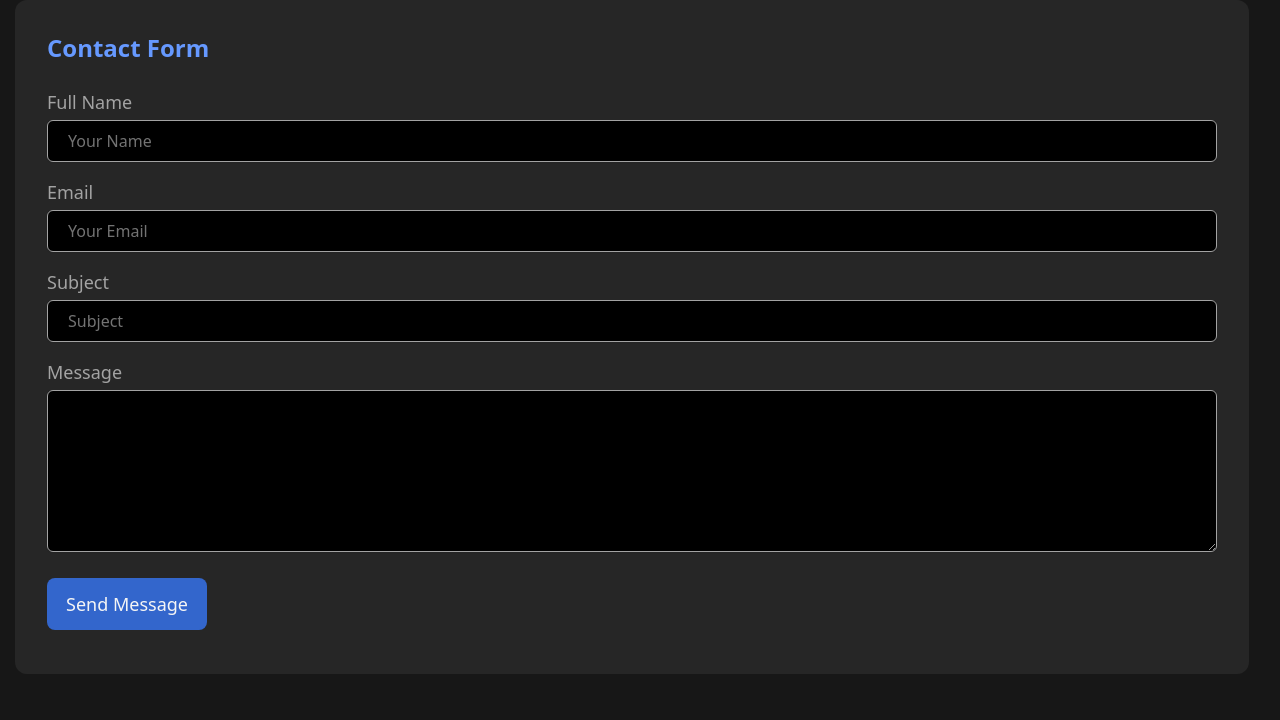
Scenario: ContactForm › re-enables the button after successful submission
Type "Alice" into the field labelled "Full Name" at [632, 141], box [47,120,1217,162]
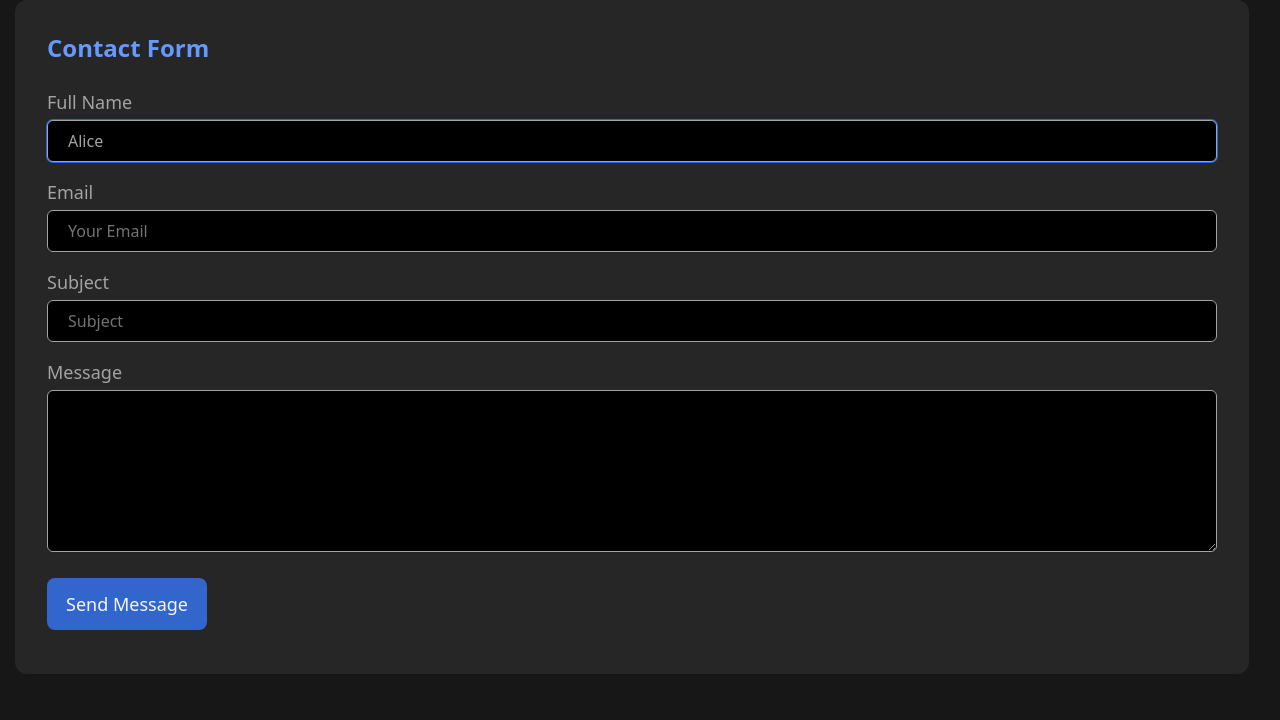
Type "alice@example.com" into the field labelled "Email" at [632, 231], box [47,210,1217,252]
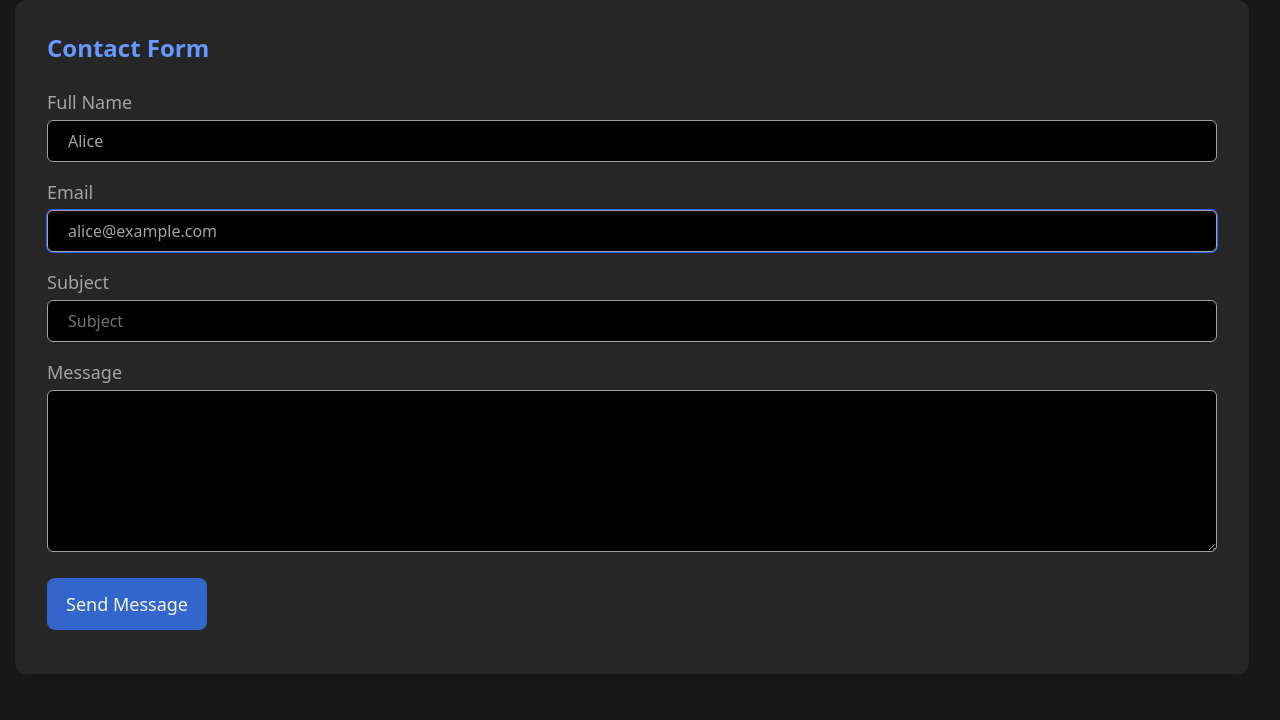
Type "Hi" into the field labelled "Subject" at [632, 321], box [47,300,1217,342]
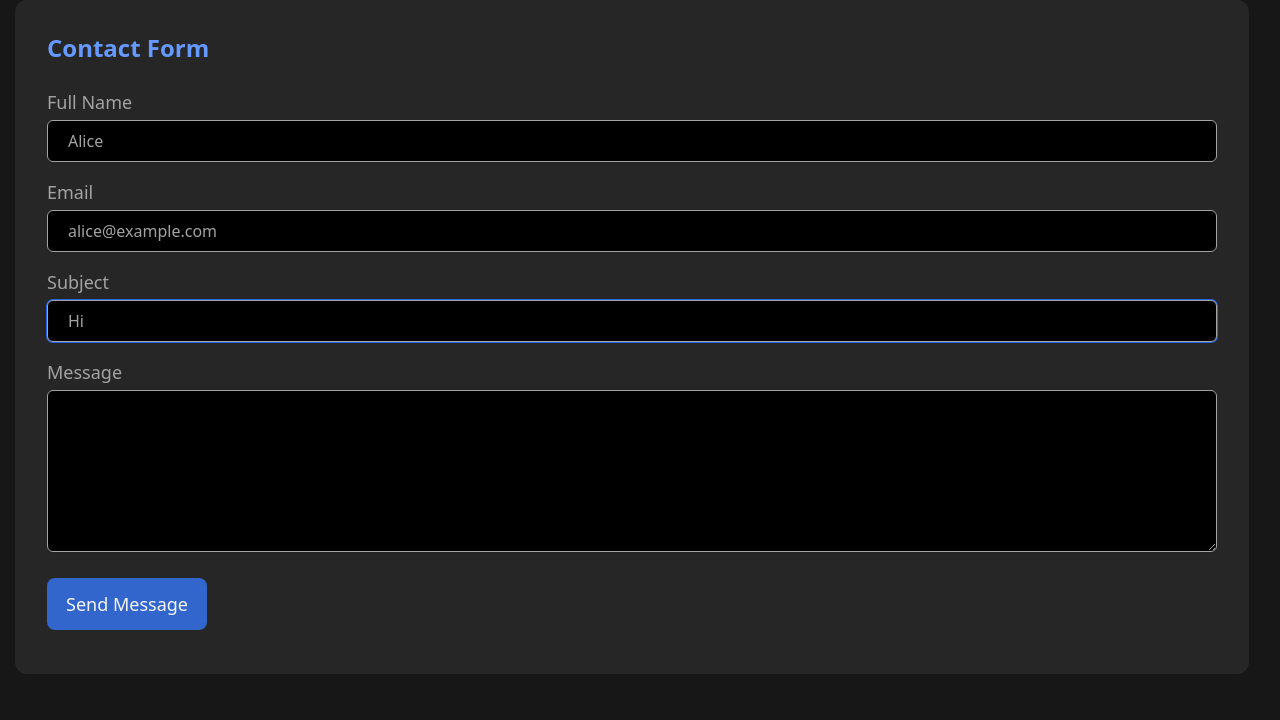
Type "Hello" into the text box labelled "Message" at [632, 471], box [47,390,1217,552]
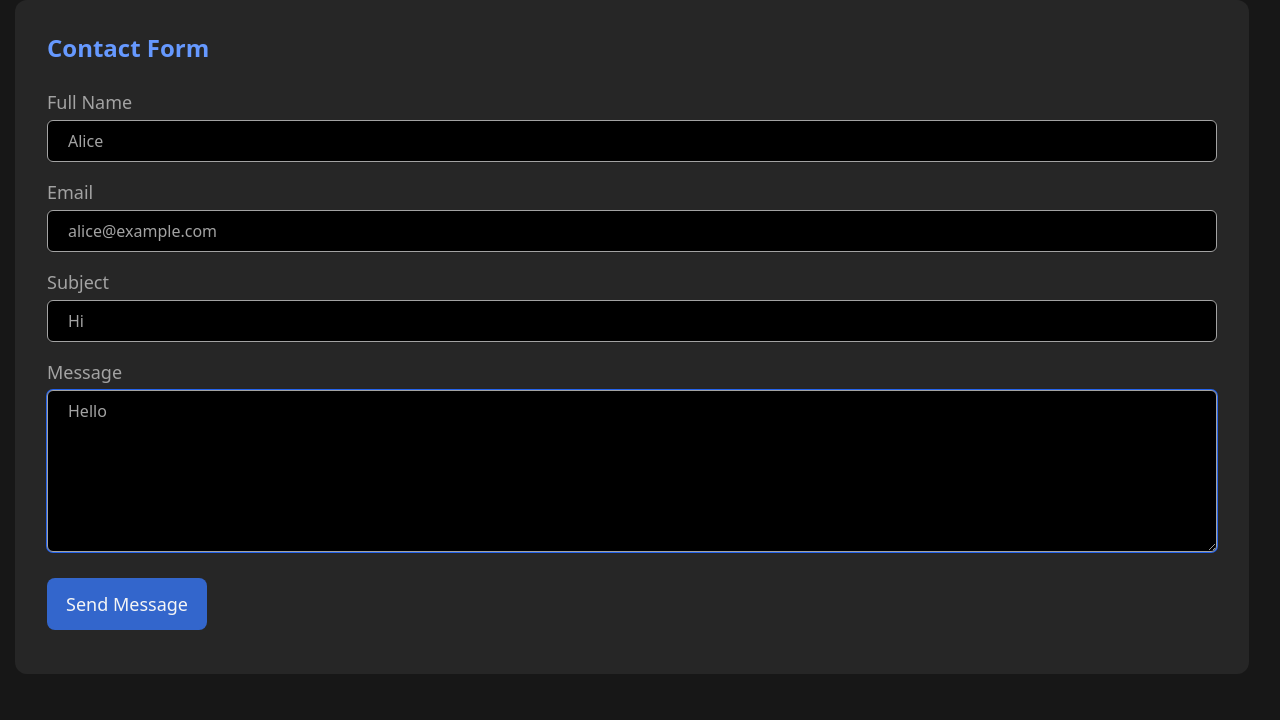
Click the button "Send Message" at [127, 604], box [47,578,207,630]
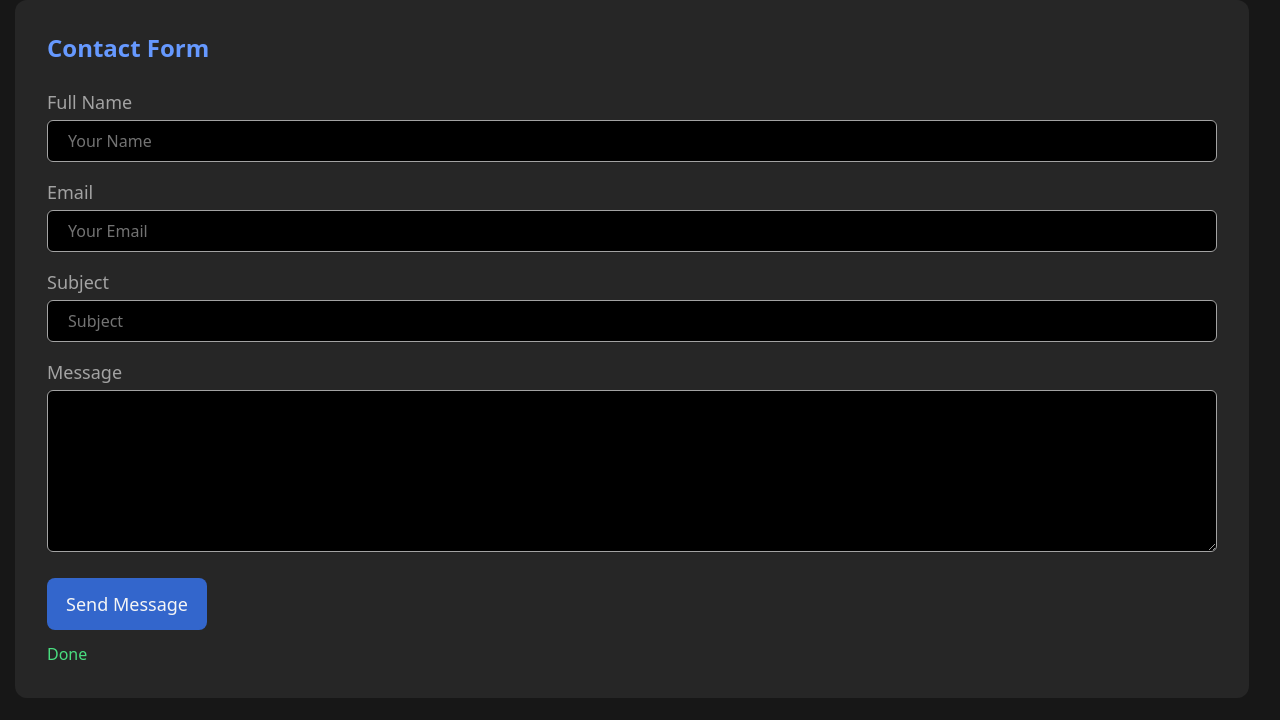
Result: the text "Done" is shown at [47,643,87,665]
